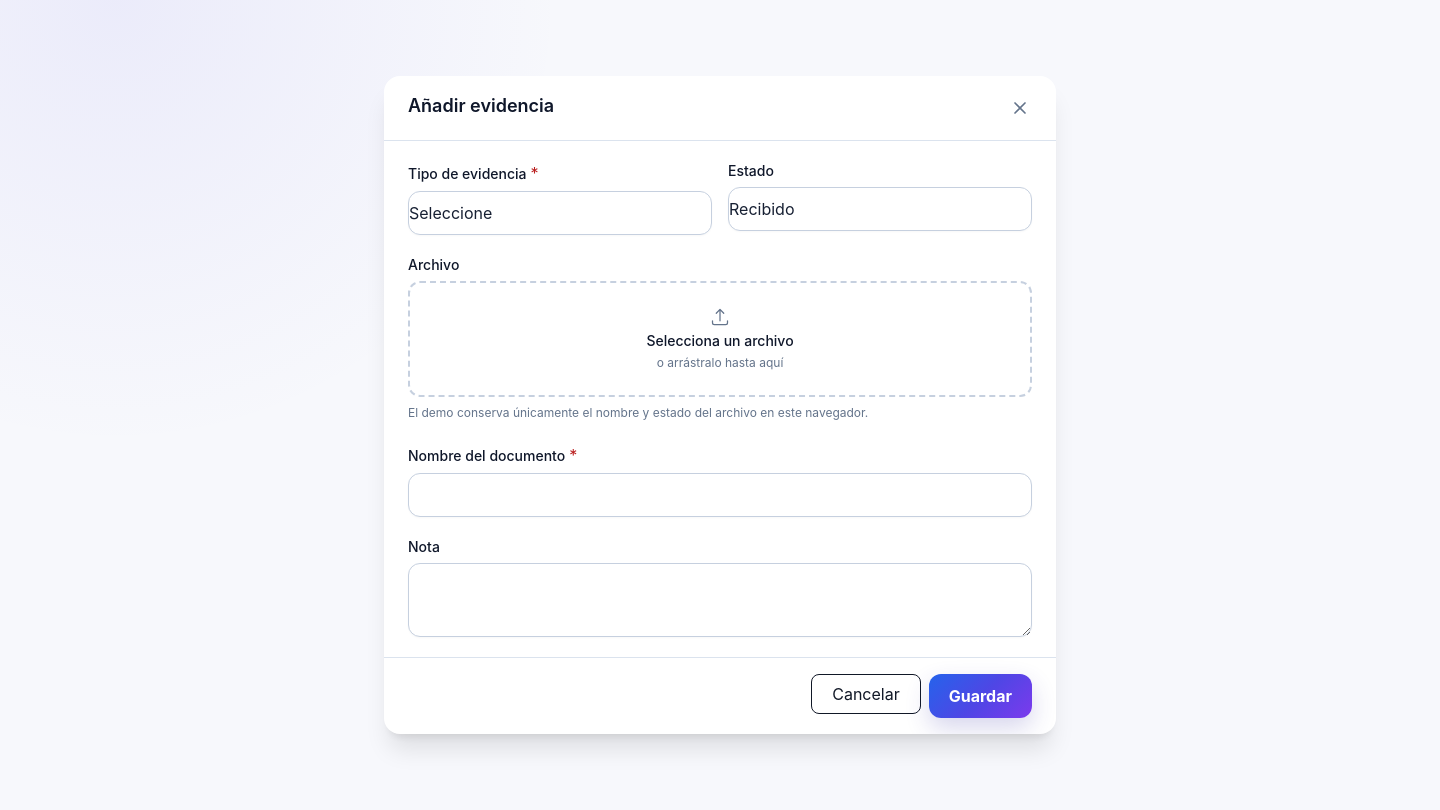
it: BankruptcyEntryModal — Add Evidence › blocks submit and reports each missing field inline, next to the field
Click the button "Guardar": [980, 696] box [929,674,1032,718]
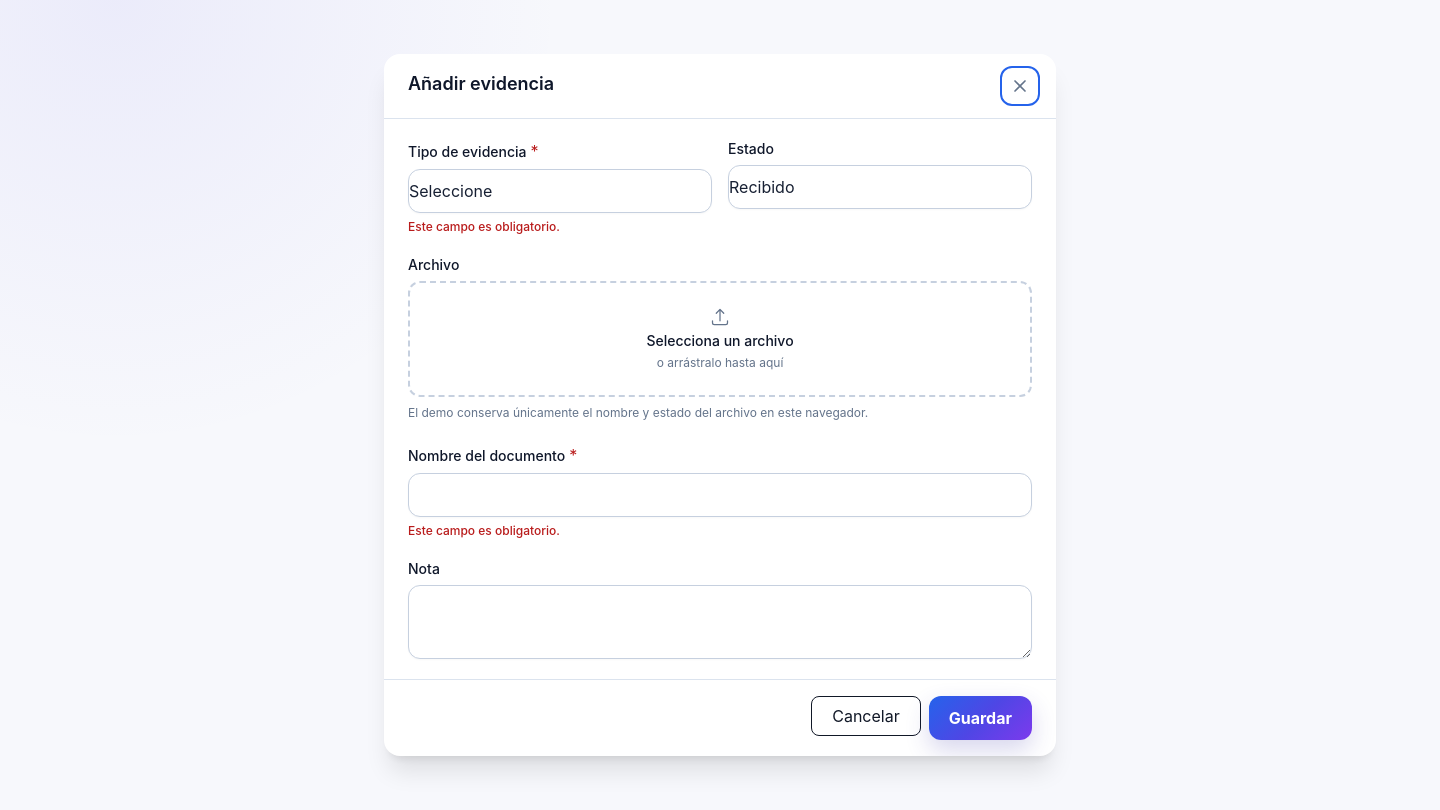
expect the number of messages is 2: met, box [408,219,560,234]; [408,523,560,538]
expect the message "Este campo es obligatorio." below "Tipo de evidencia" is shown: met, box [408,219,560,234]
